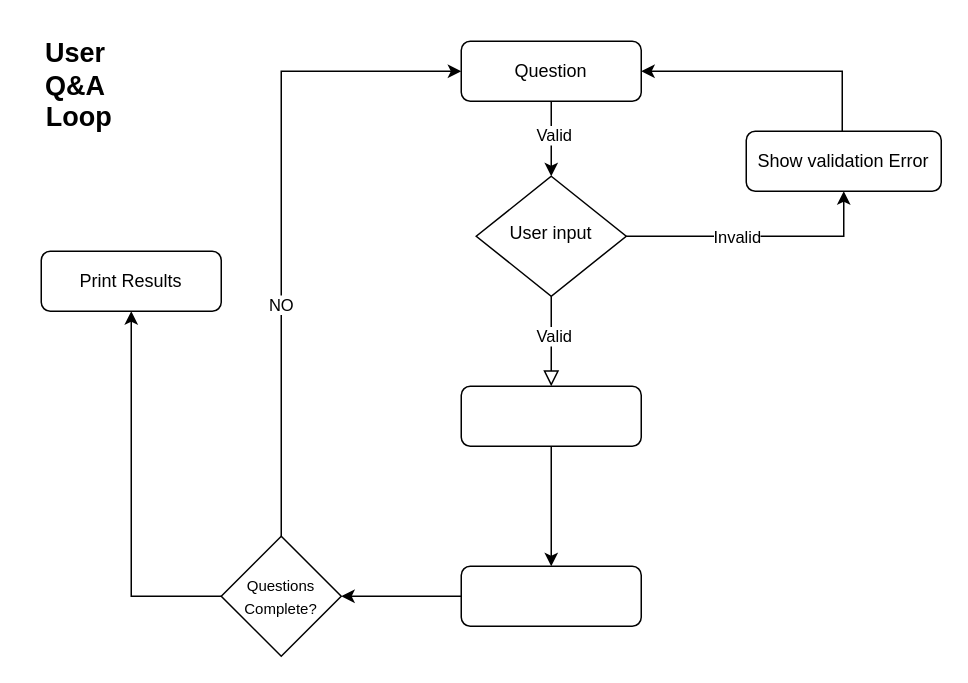
This 968x683 diagram has some shape labels left out. The centre of each missing label's shape, as x and y in pixels:
"Process Information" goes at (550,415).
"Update User" goes at (550,595).
